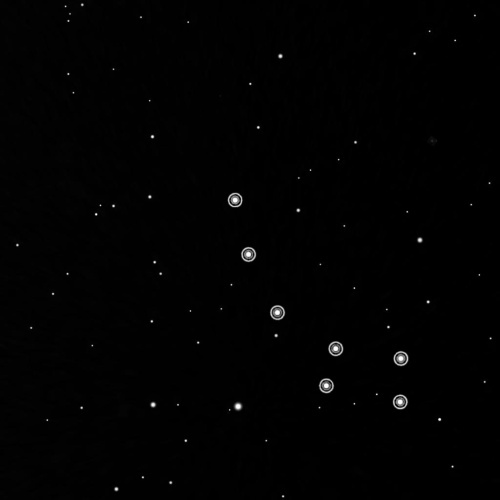ursa_minor: (223, 186, 413, 413)
